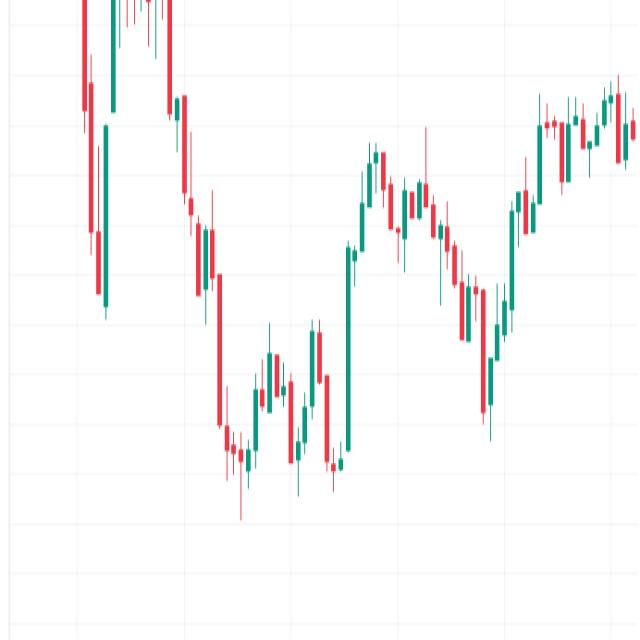Triple-Bottom: (202, 314, 374, 514)
